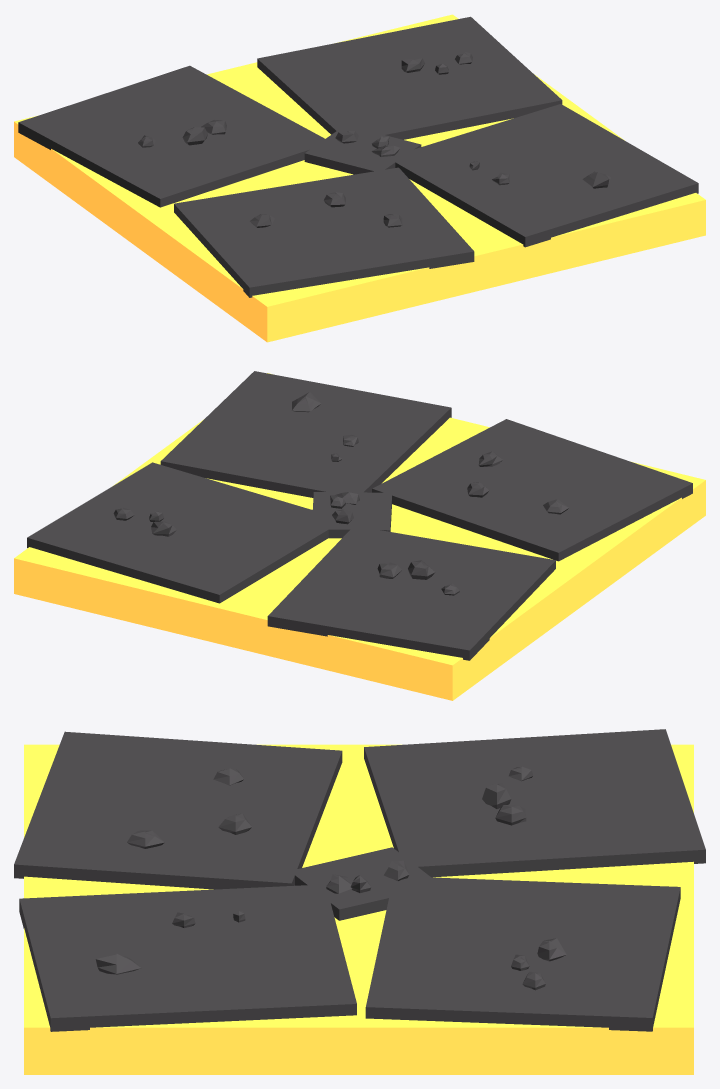
The model's file is lava_l.glb.
3 renders of one model, top to bottom at view 1: azimuth 30°, elevation 25°; view 2: azimuth 150°, elevation 25°; view 3: azimuth 270°, elevation 25°, orthographic. The views are drawn at different scales.
Parts seen in each view (by area): view 1: volcano-and-lava-fields-lava-lake-surface-plate; view 2: volcano-and-lava-fields-lava-lake-surface-plate; view 3: volcano-and-lava-fields-lava-lake-surface-plate.
Part boxes in pixels (x1,y1,x2,y2): volcano-and-lava-fields-lava-lake-surface-plate: (14,14,705,342); volcano-and-lava-fields-lava-lake-surface-plate: (14,371,705,700); volcano-and-lava-fields-lava-lake-surface-plate: (14,729,705,1074).
Size of the model in its own units: 4.08 by 0.5144 by 4.13.
